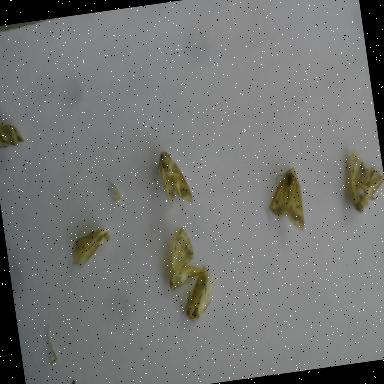abw: (159, 220, 209, 294), (262, 161, 310, 238), (341, 140, 384, 219), (172, 261, 224, 325), (150, 142, 195, 212), (65, 223, 116, 272), (0, 114, 27, 152)
